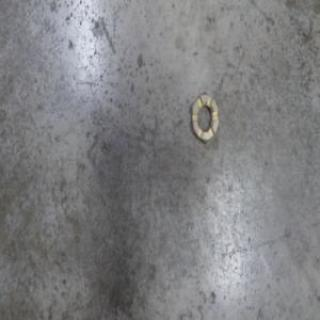Nuttrack_idkeyframe: (190, 89, 218, 144)
